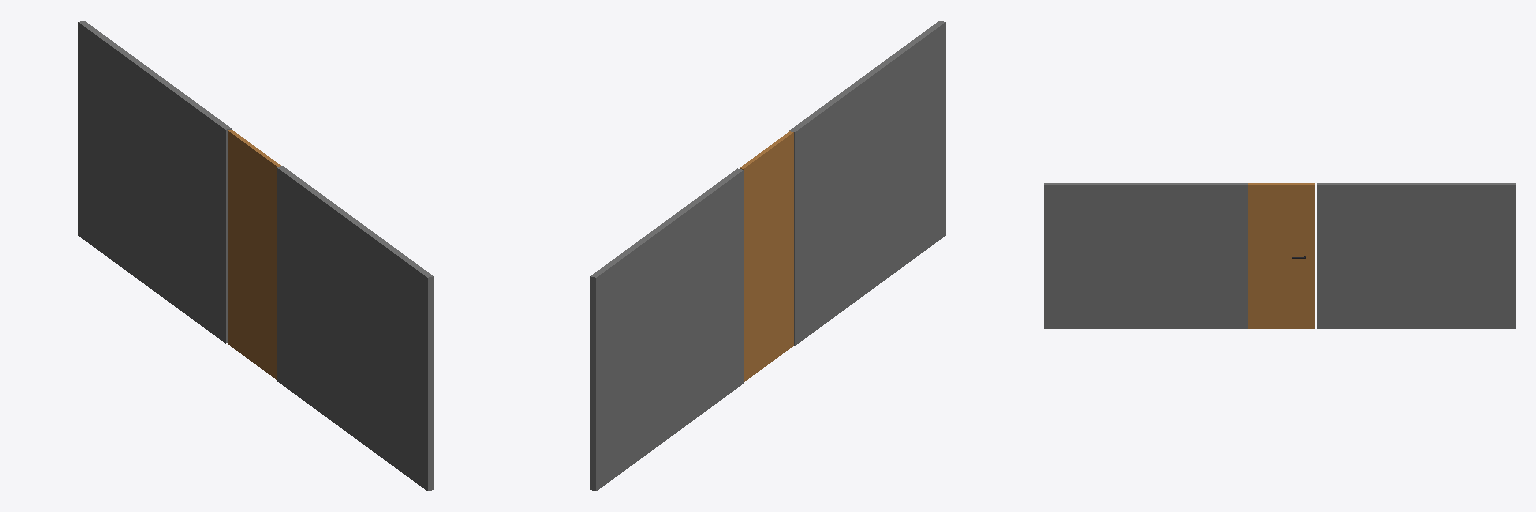
URDF robot description (revolute_door_rl):
<?xml version="1.0"?>
<!-- Revolute (hinged) door, RL training variant.

     Differences from revolute_door.urdf (the perception/classical asset):
       - No latch. Turning the handle is out of scope for both approaches;
         it was the dominant failure mode of the model-based controller.
         The spindle stub and the lever are therefore merged into a single
         rigid handle_grasp link, welded to the leaf. Mass and inertia below
         are the parallel-axis sum of the two original primitives about the
         combined centre of mass, not a placeholder.
       - AprilTag anchor links removed (state-based observation, no camera
         in the loop; the near-massless tag links only degrade solver
         conditioning during contact).
       - Canonical names shared with sliding_door_rl.urdf:
             door_frame      static base link
             door_leaf       moving link
             door_dof_joint  the single DOF that "opens"
             handle_grasp    the link the gripper takes

     Consequence of welding the handle: the entire hinge torque now passes
     through finger friction on a 28mm rod. Grip slip replaces lever
     rotation as the failure mode, so the gripper friction coefficient
     (apply_gripper_friction.py) belongs in the domain randomisation.

     Convert with merge-joints and make-instanceable.
     Result: 2 rigid bodies, 1 DOF.

     The <dynamics> values below are DEFAULTS ONLY - resistance is set in
     the ArticulationCfg and randomised per-env at runtime. In particular,
     do NOT rely on the converter's default drive: it produced a 100 Nm/rad
     closer spring on the hinge (218 N at the handle to reach 90 deg), which
     is what the earlier revolute-door experiments were fighting.

     Convention: door face normal = +X, width along +Y (hinge at Y=0),
     height along +Z. -->
<robot name="revolute_door_rl">

  <!-- ===================== FRAME (static hinge post) ===================== -->
  <link name="door_frame">
    <visual>
      <origin xyz="0 -0.03 1.0" rpy="0 0 0"/>
      <geometry><box size="0.06 0.06 2.0"/></geometry>
      <material name="frame_grey"><color rgba="0.5 0.5 0.5 1"/></material>
    </visual>
    <collision>
      <origin xyz="0 -0.03 1.0" rpy="0 0 0"/>
      <geometry><box size="0.06 0.06 2.0"/></geometry>
    </collision>
    <inertial>
      <origin xyz="0 -0.03 1.0"/>
      <mass value="50"/>
      <inertia ixx="16.7" iyy="16.7" izz="0.03" ixy="0" ixz="0" iyz="0"/>
    </inertial>
  </link>

  <!-- ===================== DOOR LEAF ===================== -->
  <link name="door_leaf">
    <visual>
      <origin xyz="0.0 0.425 1.0" rpy="0 0 0"/>
      <geometry><box size="0.04 0.85 2.0"/></geometry>
      <material name="door_wood"><color rgba="0.72 0.52 0.30 1"/></material>
    </visual>
    <collision>
      <origin xyz="0.0 0.425 1.0" rpy="0 0 0"/>
      <geometry><box size="0.04 0.85 2.0"/></geometry>
    </collision>
    <inertial>
      <origin xyz="0.0 0.425 1.0"/>
      <mass value="15"/>
      <inertia ixx="5.90" iyy="5.00" izz="0.91" ixy="0" ixz="0" iyz="0"/>
    </inertial>
  </link>

  <!-- The DOF that opens. Revolute here, prismatic in the other asset -
       same name, so the env code never branches on door type. -->
  <joint name="door_dof_joint" type="revolute">
    <parent link="door_frame"/>
    <child link="door_leaf"/>
    <origin xyz="0 0 0" rpy="0 0 0"/>
    <axis xyz="0 0 1"/>
    <limit lower="0.0" upper="2.36" effort="200" velocity="2.0"/>
    <dynamics damping="2.0" friction="1.0"/>
  </joint>

  <!-- ===================== HANDLE (spindle + lever, welded) ===================== -->
  <!-- Link frame sits where latch_joint used to be. Geometry is unchanged
       from revolute_door.urdf, so the grasp pose carries over:
         - spindle stub, axis +X, centred at (0.02, 0, 0)
         - lever, axis +Y, spanning y in [-0.16, 0] at x = 0.04,
           pointing back toward the hinge side like a real lever handle
       Inertia: combined centre of mass at (0.034286, -0.057143, 0),
       total mass 0.35 kg, tensor about that point from the parallel-axis
       theorem over both cylinders (note the non-zero ixy - the two pieces
       are offset in both x and y, so the tensor is not diagonal). -->
  <link name="handle_grasp">
    <visual>
      <origin xyz="0.02 0 0" rpy="0 1.5708 0"/>
      <geometry><cylinder radius="0.012" length="0.04"/></geometry>
      <material name="handle_metal"><color rgba="0.2 0.2 0.22 1"/></material>
    </visual>
    <collision>
      <origin xyz="0.02 0 0" rpy="0 1.5708 0"/>
      <geometry><cylinder radius="0.012" length="0.04"/></geometry>
    </collision>

    <visual>
      <origin xyz="0.04 -0.08 0" rpy="1.5708 0 0"/>
      <geometry><cylinder radius="0.014" length="0.16"/></geometry>
      <material name="handle_metal"><color rgba="0.2 0.2 0.22 1"/></material>
    </visual>
    <collision>
      <origin xyz="0.04 -0.08 0" rpy="1.5708 0 0"/>
      <geometry><cylinder radius="0.014" length="0.16"/></geometry>
    </collision>

    <inertial>
      <origin xyz="0.034286 -0.057143 0"/>
      <mass value="0.35"/>
      <inertia ixx="1.00993e-3" iyy="7.00048e-5" izz="1.04823e-3"
               ixy="1.14286e-4" ixz="0" iyz="0"/>
    </inertial>
  </link>

  <joint name="handle_fixed" type="fixed">
    <parent link="door_leaf"/>
    <child link="handle_grasp"/>
    <origin xyz="0.02 0.72 1.0" rpy="0 0 0"/>
  </joint>

  <!-- ===================== WALLS (left/right, u ravnini vrata) ==========
       Koplanarno s door_frame (isti X, ista debljina 0.06). Lijevi zid
       nastavlja stranu sarke od vanjskog ruba framea (y=-0.06) dalje u
       -Y; desni zatvara prolaz na strani kvake, prislonjen na vanjski
       rub krila kad su vrata zatvorena (y=0.85). Duljina svakog zida
       2.5 m. Slobodan prolaz izmedju njih ostaje 0.85 m (isto kao sirina
       krila) - kmr_width (0.63 m) staje s marginom od 0.11 m po strani.
       Krilo se pri otvaranju giba SAMO prema manjim y, nikad prema van,
       pa ne dodiruje wall_right ni pri limitu od 1.57 rad (90°). -->
  <link name="wall_left">
    <visual>
      <origin xyz="0 -1.31 1.0" rpy="0 0 0"/>
      <geometry><box size="0.06 2.5 2.0"/></geometry>
      <material name="frame_grey"/>
    </visual>
    <collision>
      <origin xyz="0 -1.31 1.0" rpy="0 0 0"/>
      <geometry><box size="0.06 2.5 2.0"/></geometry>
    </collision>
    <inertial>
      <origin xyz="0 -1.31 1.0"/>
      <mass value="100"/>
      <inertia ixx="85.4" iyy="33.4" izz="52.1" ixy="0" ixz="0" iyz="0"/>
    </inertial>
  </link>

  <joint name="wall_left_joint" type="fixed">
    <parent link="door_frame"/>
    <child link="wall_left"/>
    <origin xyz="0 0 0" rpy="0 0 0"/>
  </joint>

  <link name="wall_right">
    <visual>
      <origin xyz="0 2.12 1.0" rpy="0 0 0"/>
      <geometry><box size="0.06 2.5 2.0"/></geometry>
      <material name="frame_grey"/>
    </visual>
    <collision>
      <origin xyz="0 2.12 1.0" rpy="0 0 0"/>
      <geometry><box size="0.06 2.5 2.0"/></geometry>
    </collision>
    <inertial>
      <origin xyz="0 2.12 1.0"/>
      <mass value="100"/>
      <inertia ixx="85.4" iyy="33.4" izz="52.1" ixy="0" ixz="0" iyz="0"/>
    </inertial>
  </link>

  <joint name="wall_right_joint" type="fixed">
    <parent link="door_frame"/>
    <child link="wall_right"/>
    <origin xyz="0 0 0" rpy="0 0 0"/>
  </joint>

</robot>

--- What the picture shows (computed from the rendered views, not written in the file) ---
The picture shows the robot from 3 angles, left to right: view 1: azimuth 30°, elevation 25°; view 2: azimuth 150°, elevation 25°; view 3: azimuth 270°, elevation 25°; orthographic projection.
Model revolute_door_rl with 5 links and 4 joints (1 revolute, 3 fixed), rooted at door_frame, posed every joint at zero.
Links seen in each view (by area): view 1: wall_left, wall_right, door_leaf, door_frame; view 2: wall_right, wall_left, door_leaf, door_frame; view 3: wall_left, wall_right, door_leaf, door_frame.
Link boxes in pixels (bbox=[...]): wall_left: bbox=[280, 168, 433, 490]; wall_right: bbox=[78, 21, 231, 343]; door_leaf: bbox=[228, 130, 280, 379]; door_frame: bbox=[277, 166, 285, 382]; wall_right: bbox=[590, 168, 743, 490]; wall_left: bbox=[793, 21, 945, 343]; door_leaf: bbox=[740, 131, 793, 381]; door_frame: bbox=[789, 128, 797, 345]; wall_left: bbox=[1044, 183, 1242, 328]; wall_right: bbox=[1317, 183, 1515, 328]; door_leaf: bbox=[1248, 183, 1314, 328]; door_frame: bbox=[1243, 183, 1247, 328].
Size in the robot's own frame: 0.104 by 5.93 by 2 metres.
Geometry: primitives only (box / cylinder / sphere), no mesh files.
